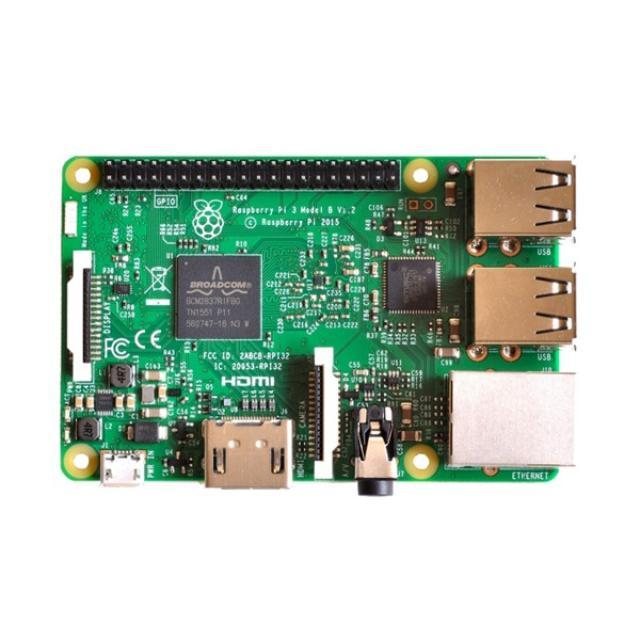Raspberry-Pi-3-B: (61, 158, 576, 496)
